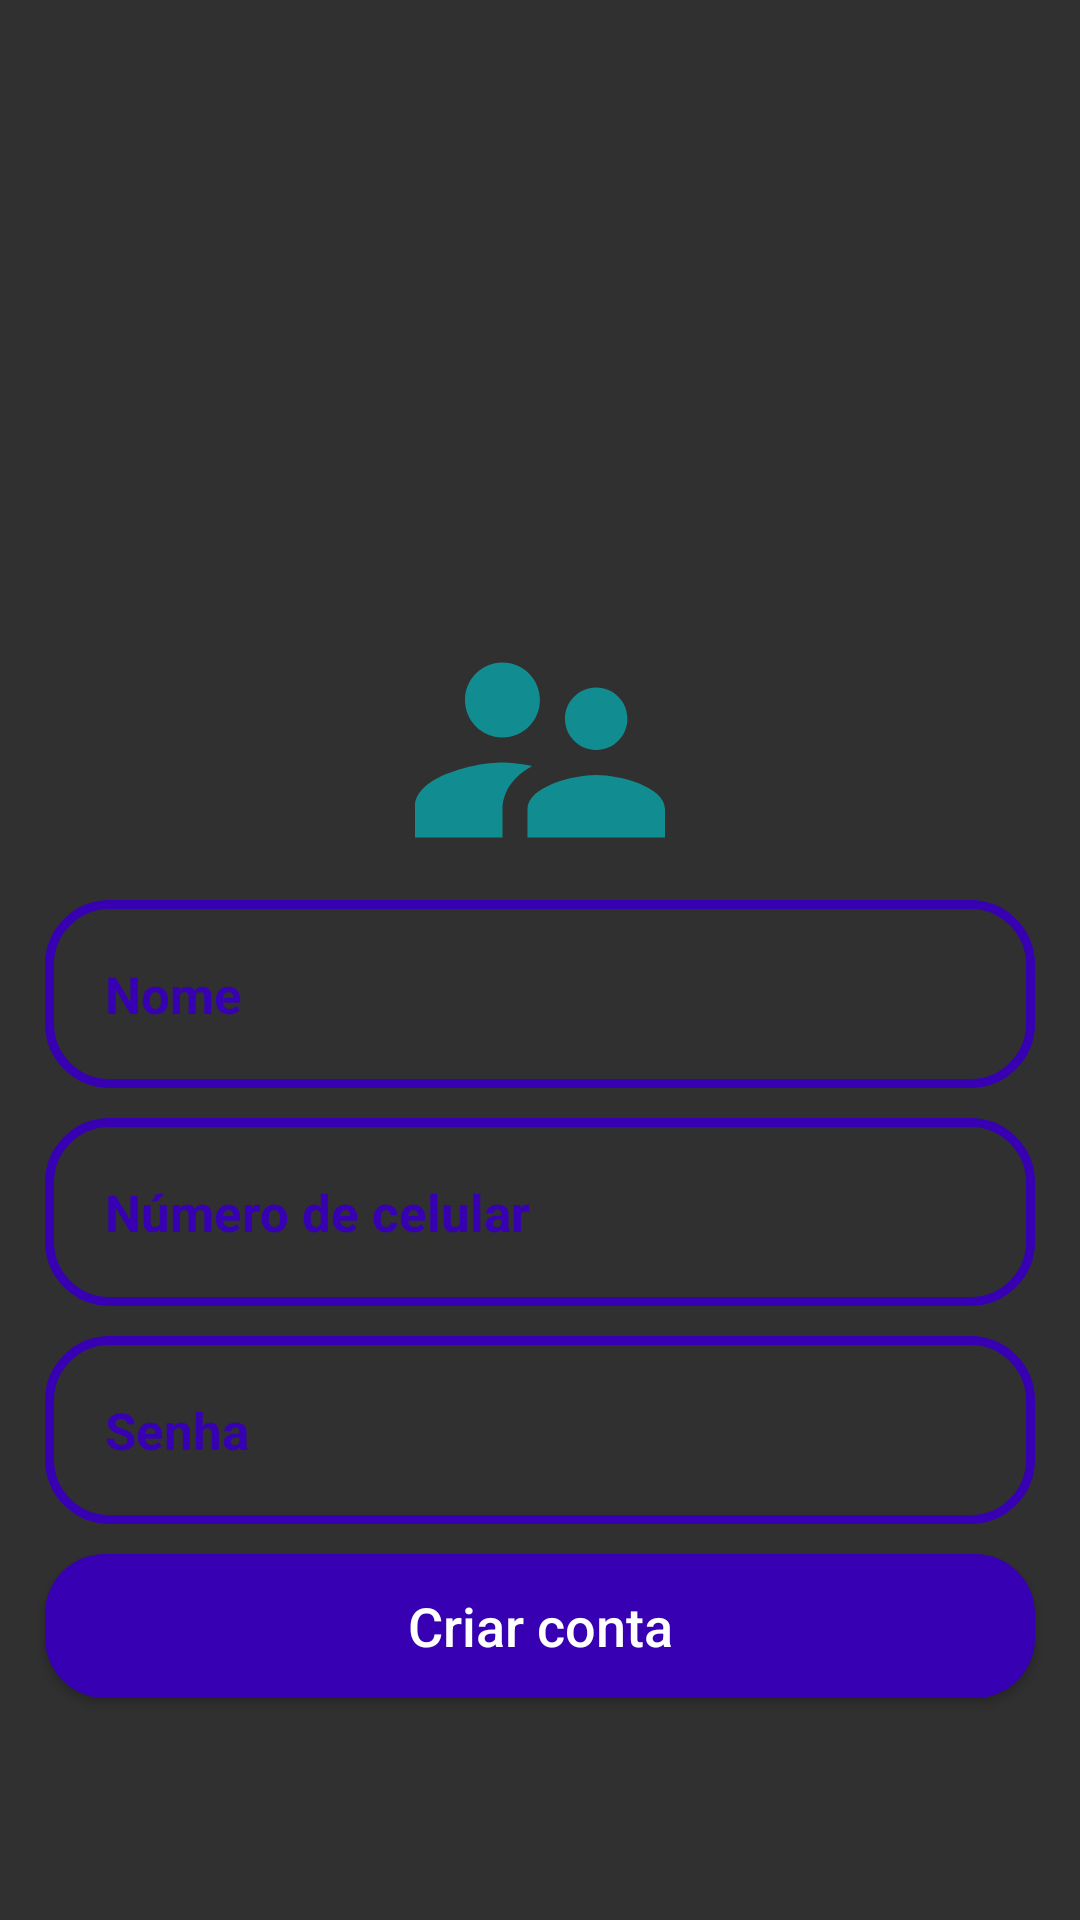

Locate icon controls on the screen. Image size 1080w x 1920h, boxes as (x1, y1, x2, y2).
supervisor account: (415, 662, 665, 838)
